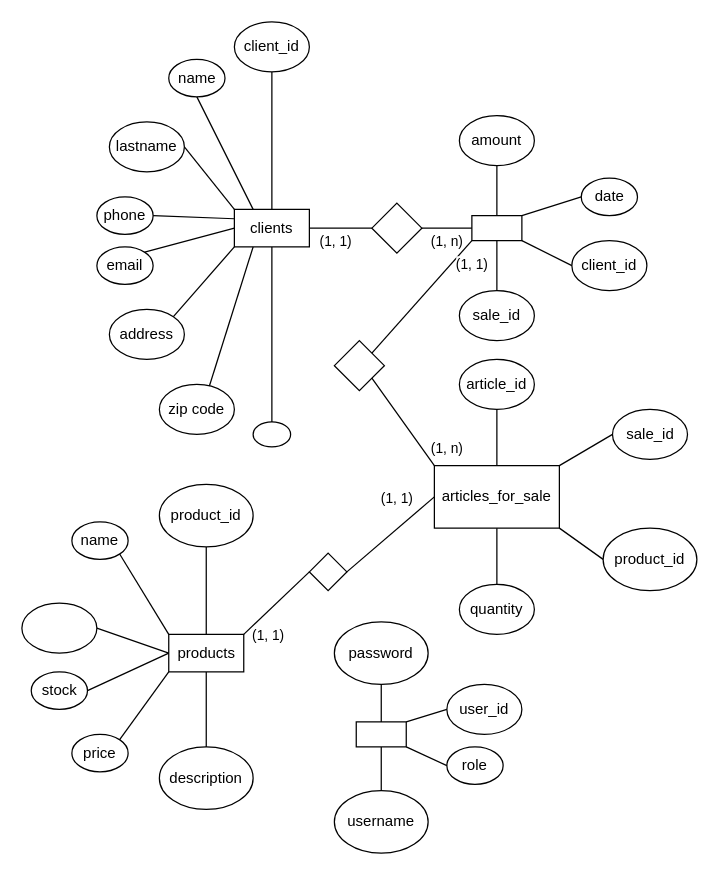
Some shapes in this 719 by 875 pixel diagram are drawn without their labels. The centre of each missing label's shape, as x and y in pixels:
city: [271,434]
do: [396,227]
has: [358,365]
is: [327,571]
photo_url: [59,627]
sales: [496,227]
users: [380,734]
